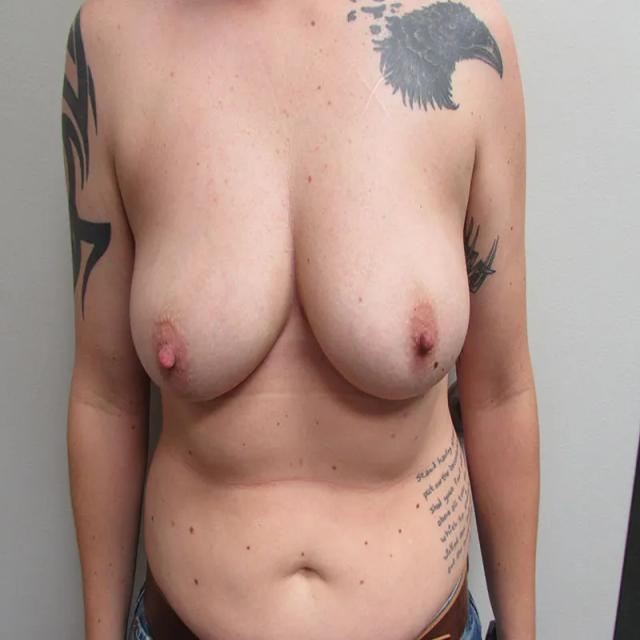Seno ileso: (296, 165, 474, 419), (119, 166, 292, 420)
